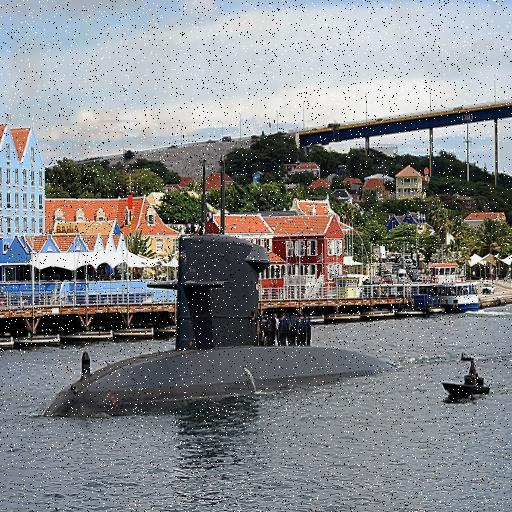submarine: (43, 155, 401, 424)
